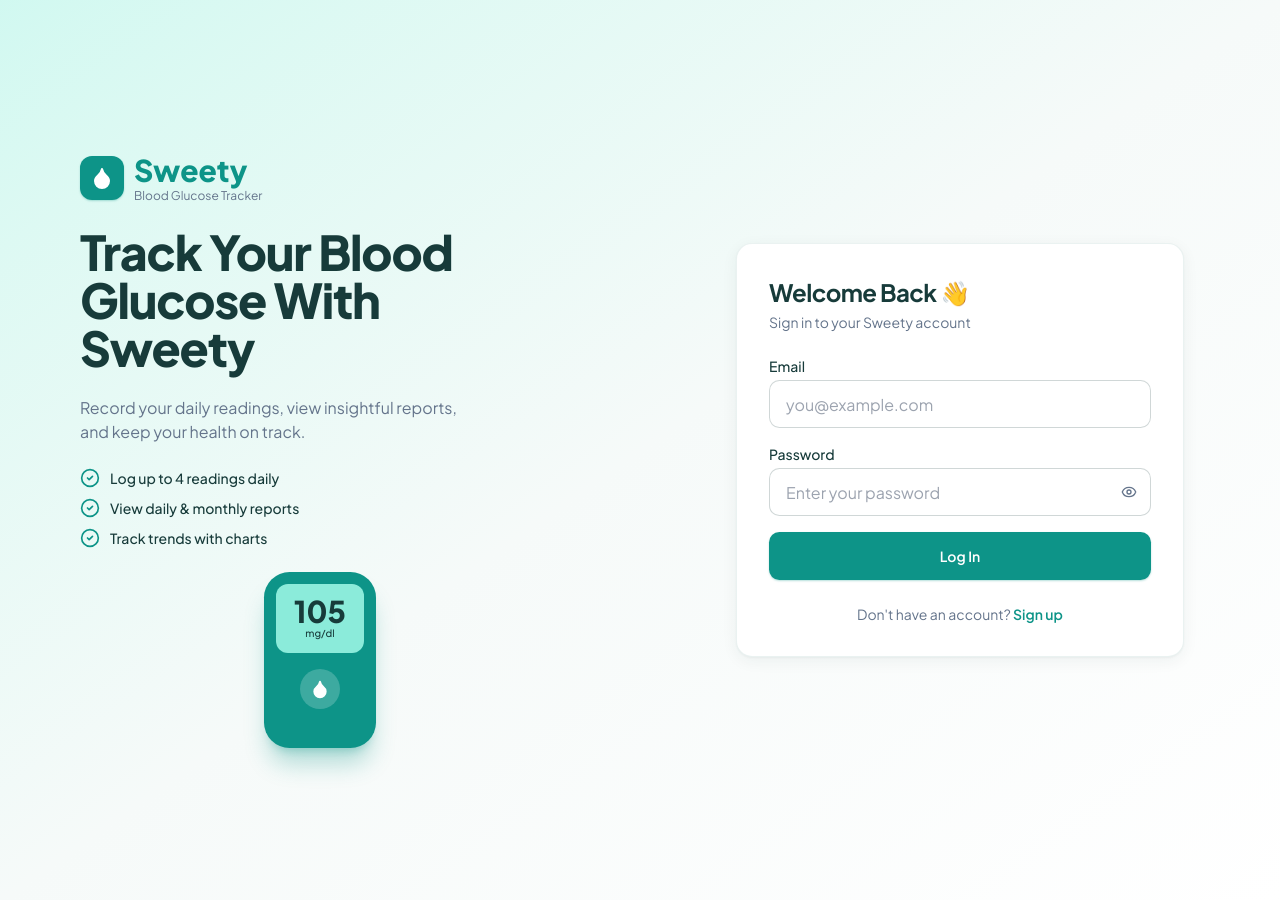
Test case: Login page › shows an error for an invalid email address
Type "not-an-email" into the field labelled "Email" at (960, 404), box x1=769 y1=380 x2=1151 y2=428
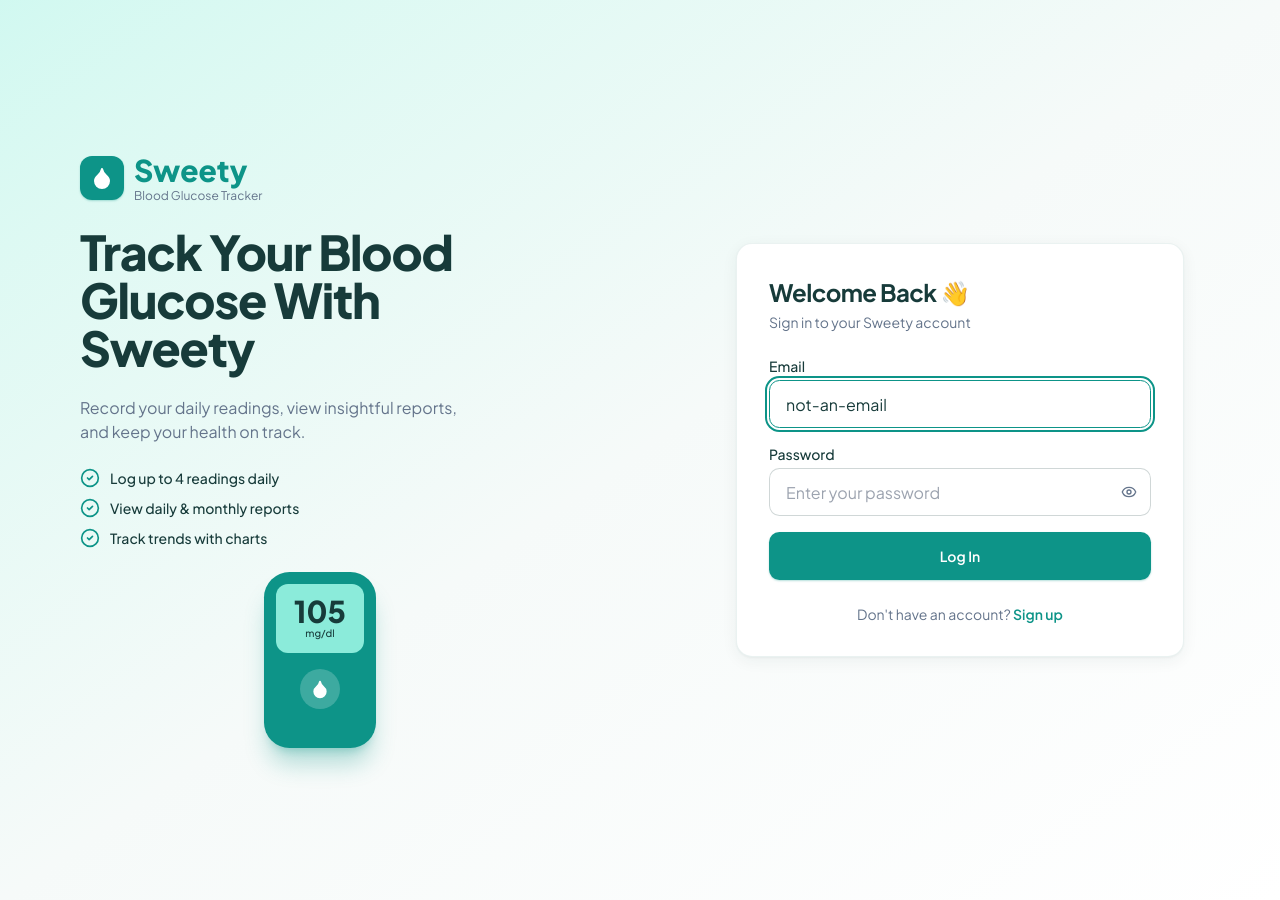
Type "secret123" into the password field labelled "Password" at (960, 492), box x1=769 y1=468 x2=1151 y2=516
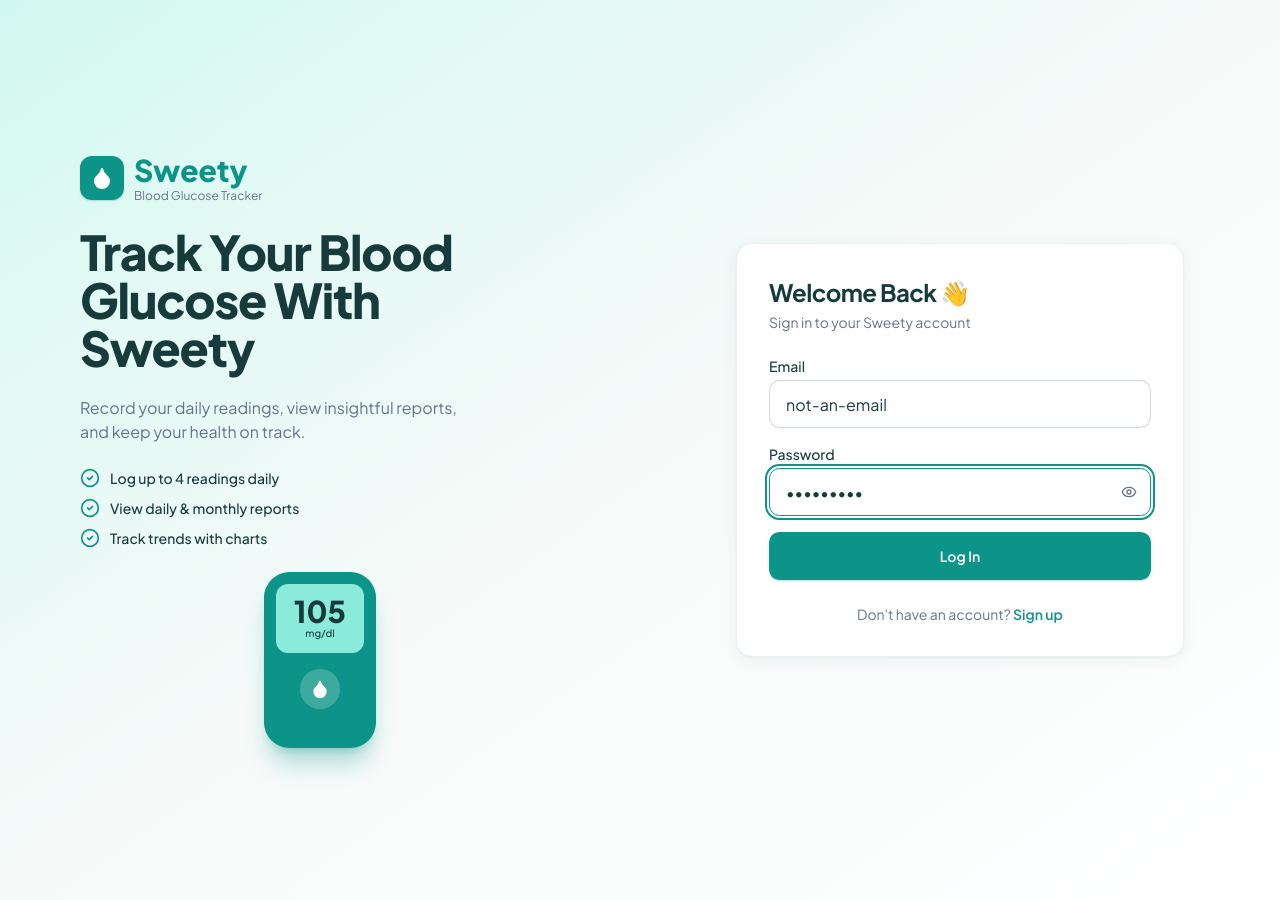
Click the button "Log In" at (960, 556), box x1=769 y1=532 x2=1151 y2=580
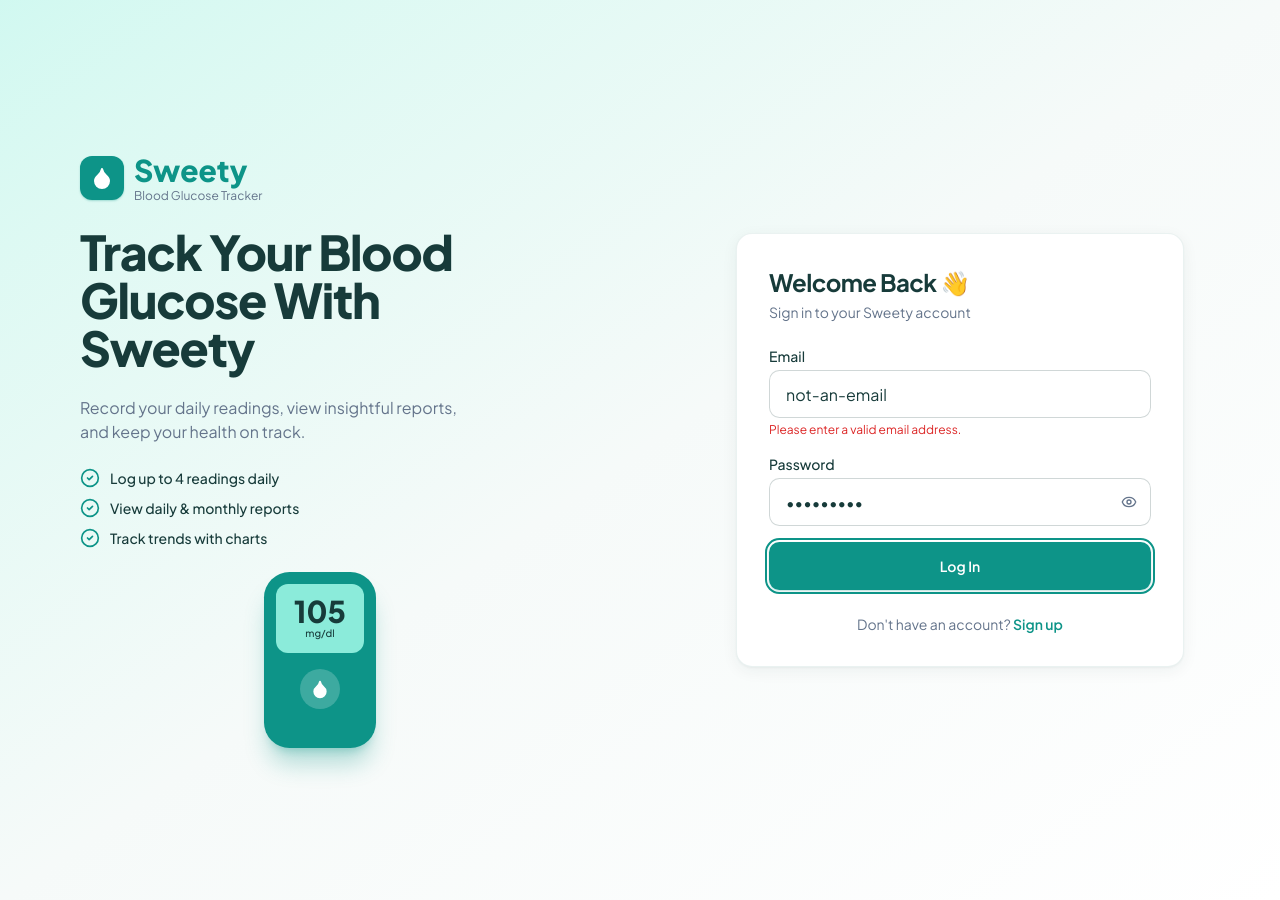
Result: the text "Please enter a valid email address." is shown at x1=769 y1=422 x2=961 y2=437
